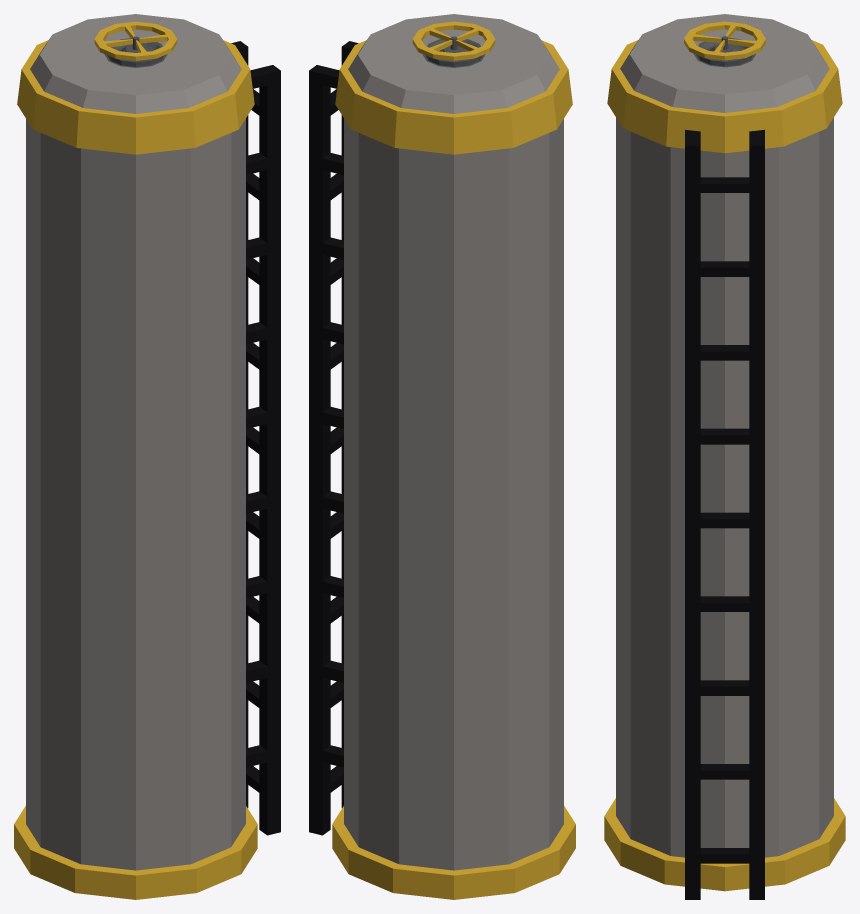
The model's file is IndustrialTankTower.fbx.
3 views of the same model, side by side, from view 1: azimuth 30°, elevation 25°; view 2: azimuth 150°, elevation 25°; view 3: azimuth 270°, elevation 25° (orthographic).
Visible parts, largest first — view 1: IndustrialTankTower; view 2: IndustrialTankTower; view 3: IndustrialTankTower.
Part boxes in pixels (x1=…): IndustrialTankTower: x1=14, y1=14, x2=280, y2=899; IndustrialTankTower: x1=309, y1=14, x2=575, y2=899; IndustrialTankTower: x1=604, y1=14, x2=845, y2=899.
Bounding box in the file's own units: 167 × 561 × 153.
